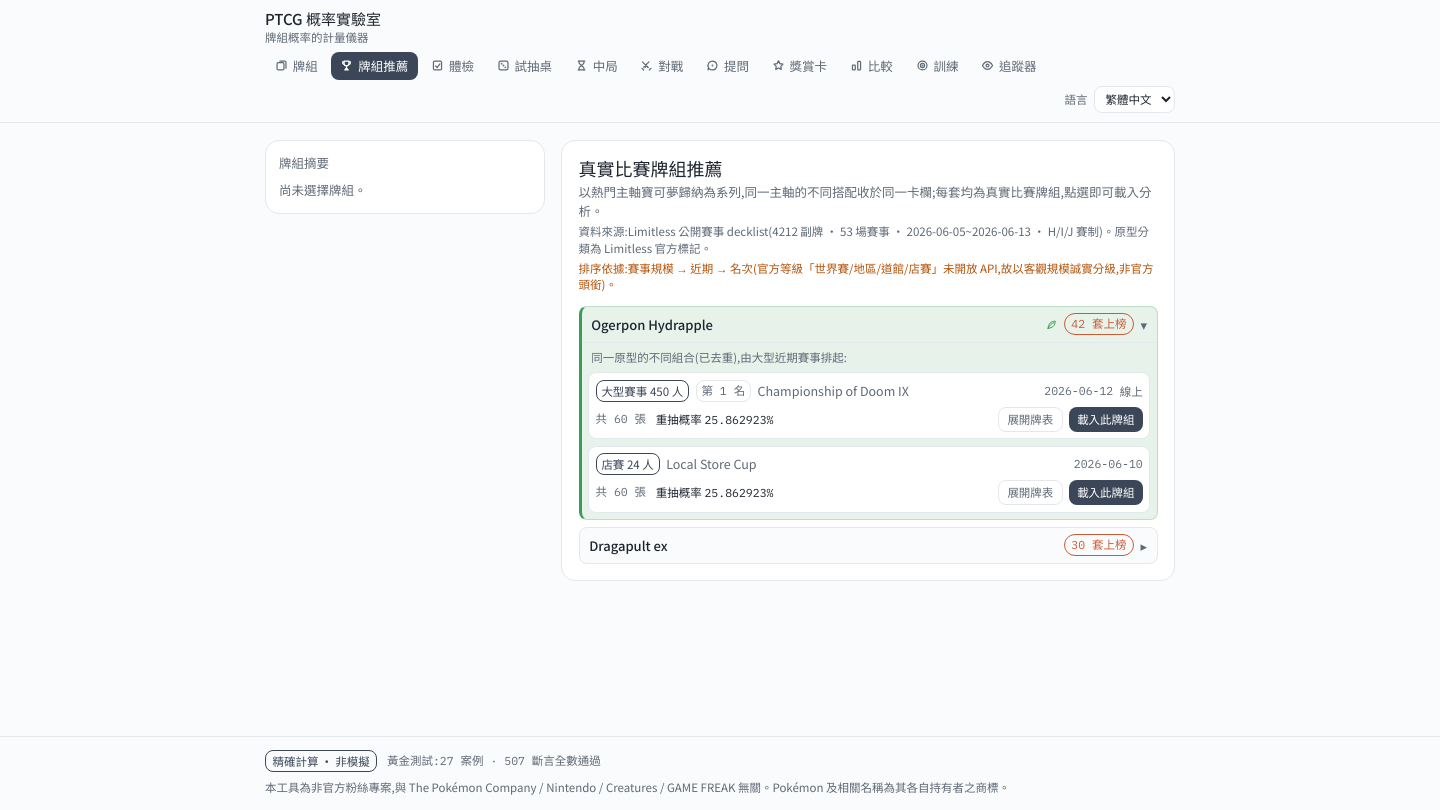
Test case: DecksView › expands a build's card list grouped by section
Click the button "展開牌表" below "第 1 名" at (1030, 419), box [998,407,1063,432]
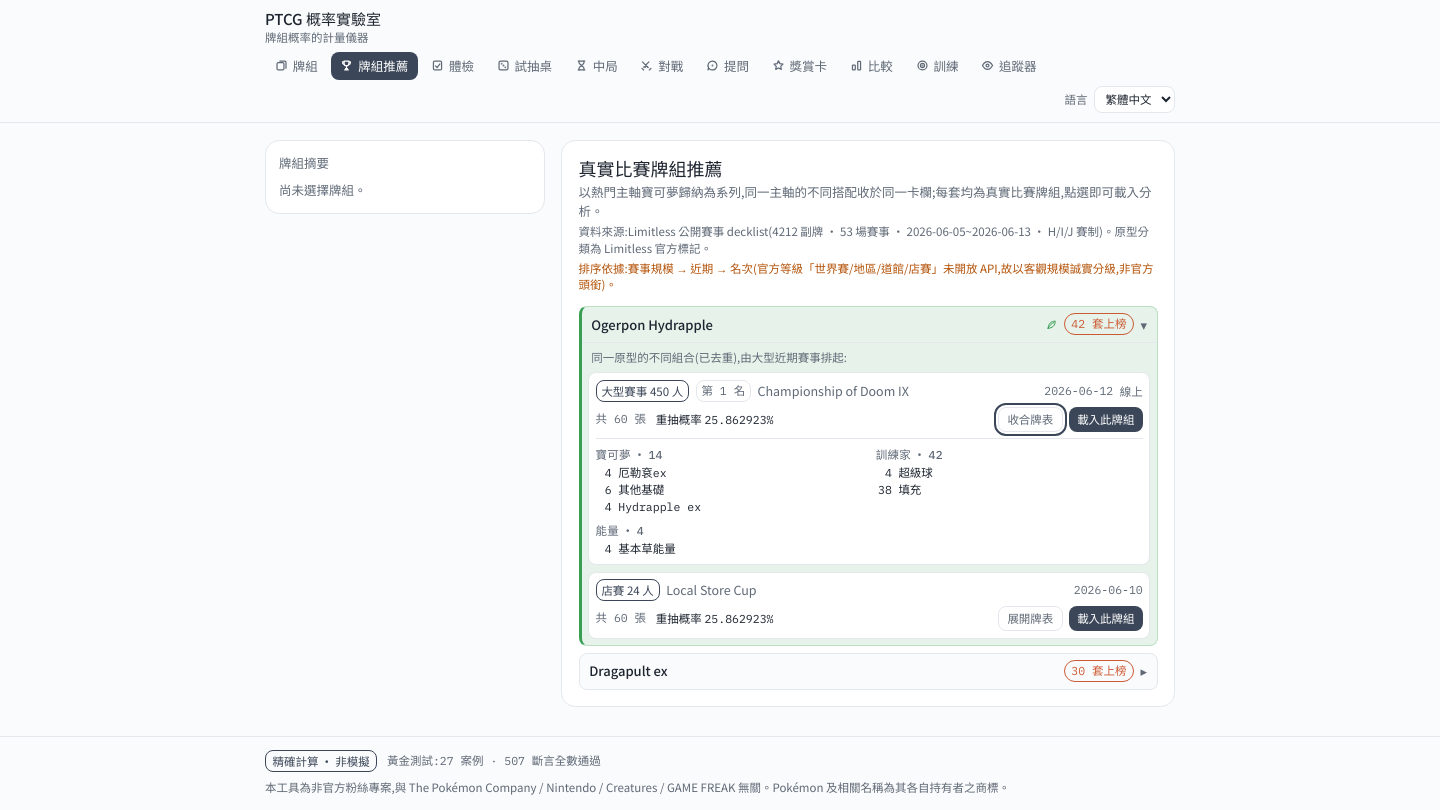
Expected: the text "厄勒袞ex" is shown, [618,465,667,480]
Expected: the text "Hydrapple ex" is shown, [618,499,701,514]
